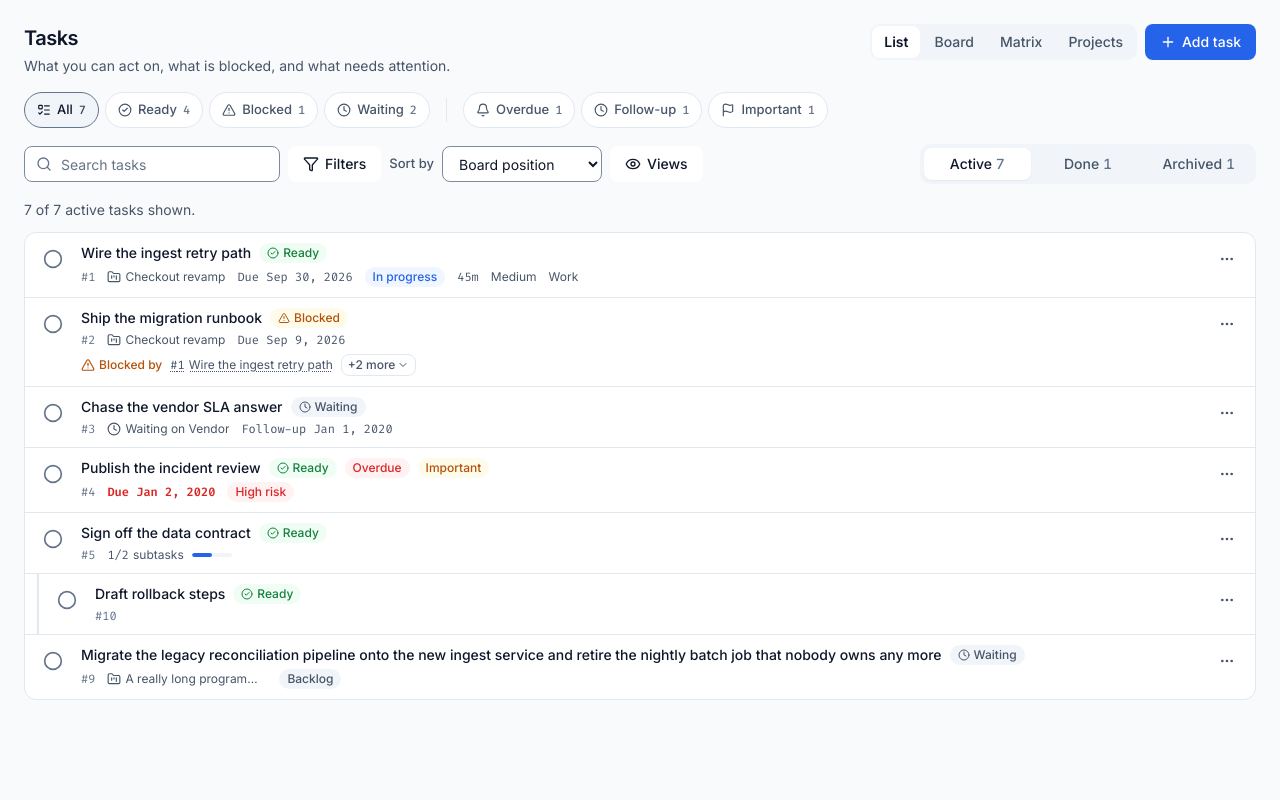
Scenario: TasksPage - signals, search, filters and saved views › filters by follow-up and important signals
Click the button with aria-label "Follow-up, 1 active task" at (642, 110), box [581,92,702,128]
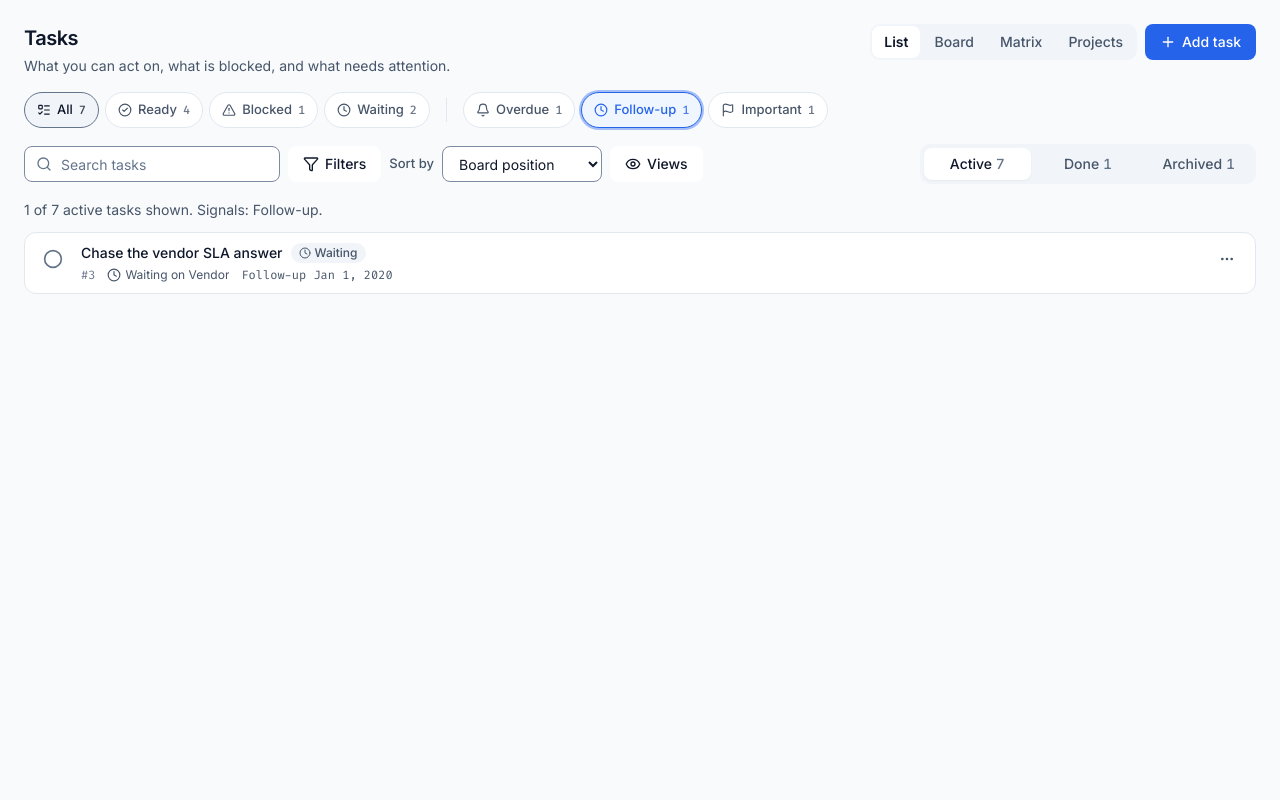
Expected: the link "Chase the vendor SLA answer" is shown, [81,243,282,263]
Now the link "Publish the incident review" is gone
Click the button with aria-label "Follow-up, 1 active task" at (642, 110), box [581,92,702,128]
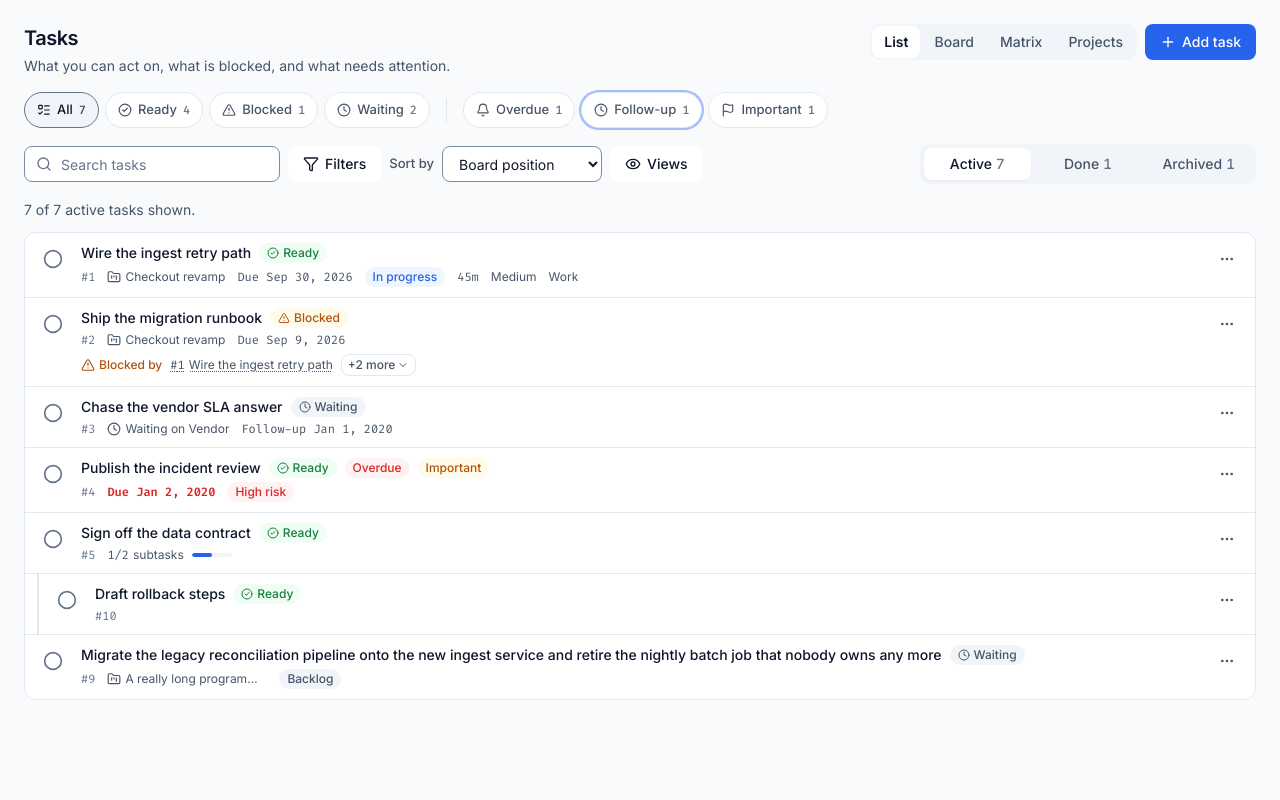
Click the button with aria-label "Important, 1 active task" at (768, 110), box [708,92,828,128]
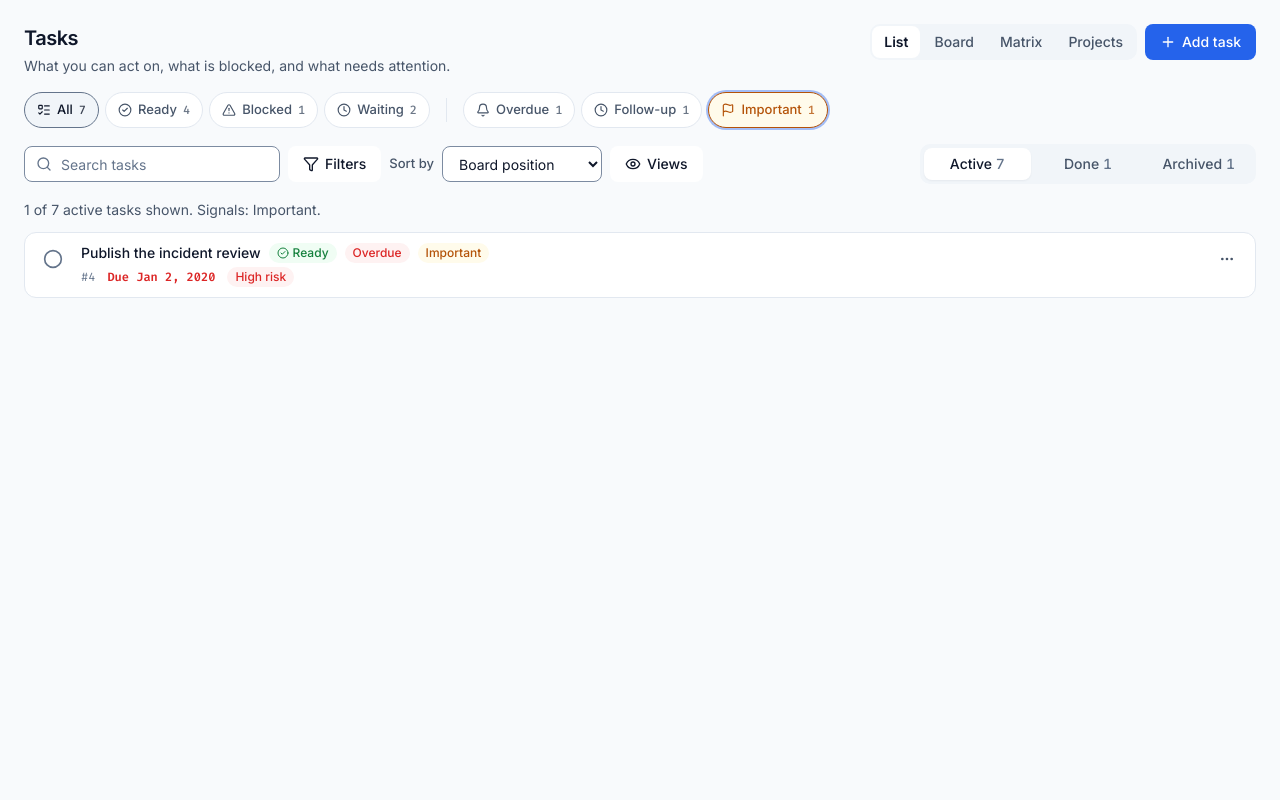
Now the link "Publish the incident review" is shown, box [81,243,261,263]
Now the link "Chase the vendor SLA answer" is gone
